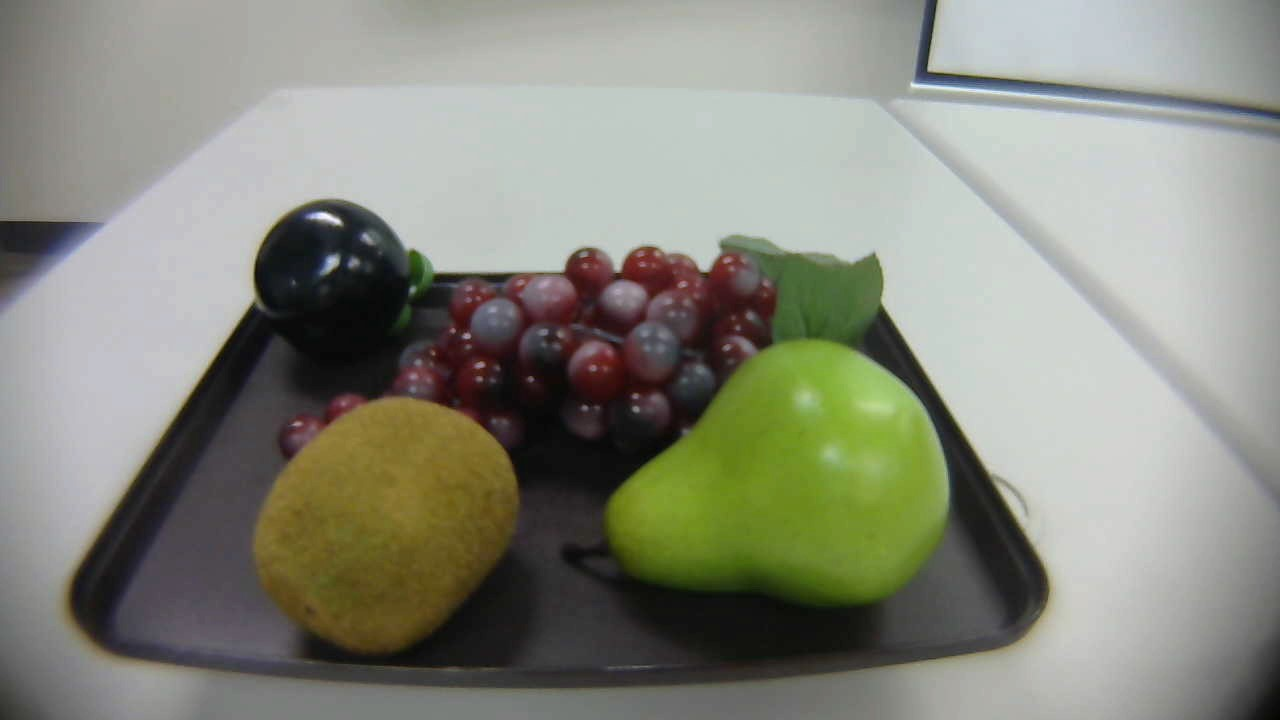grape: (273, 233, 903, 461)
green pear: (553, 338, 962, 631)
kiwi fruit: (245, 393, 530, 671)
mangosteen: (238, 191, 438, 368)
